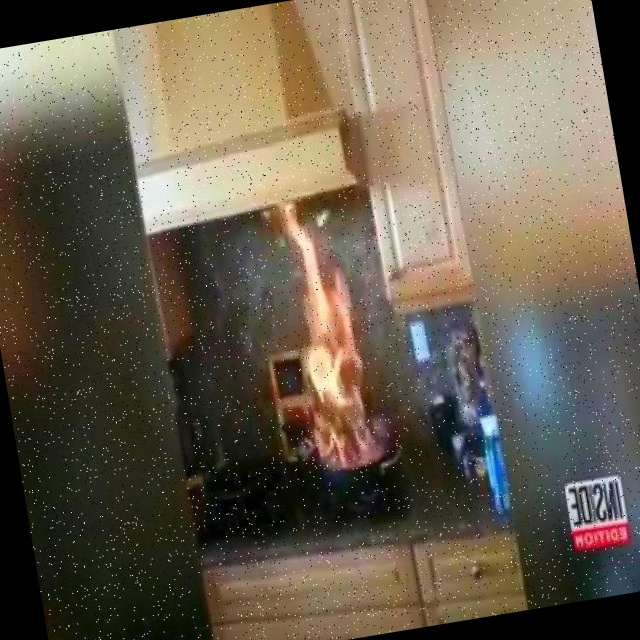fire: (234, 173, 415, 488)
